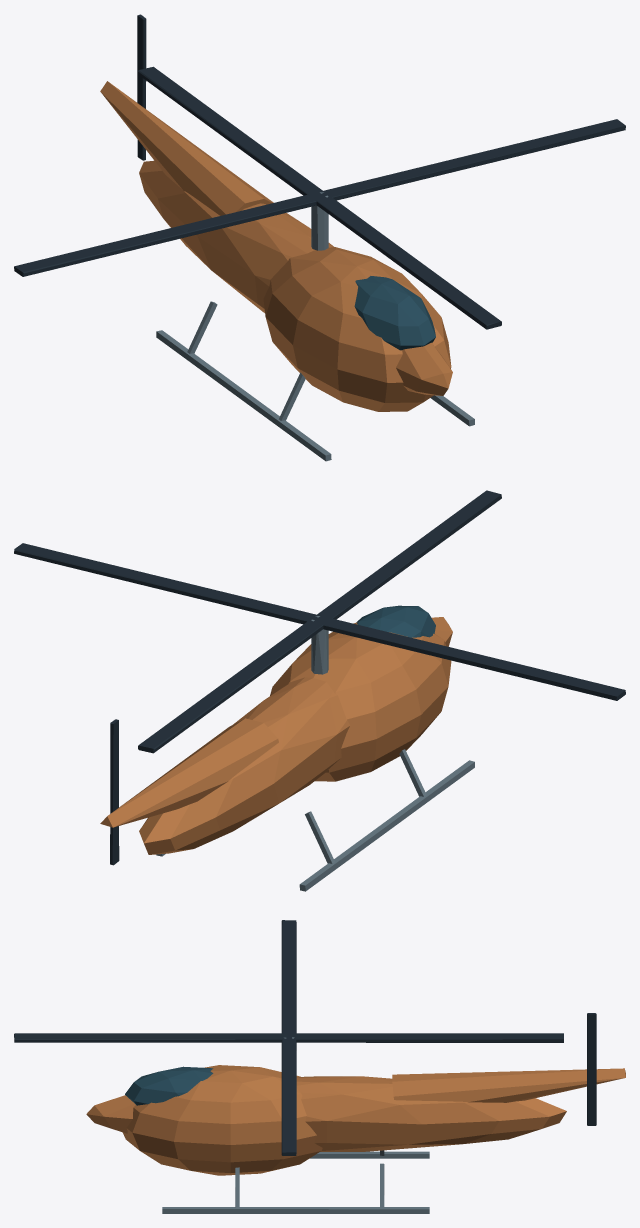
The model's file is aircraft-helicopter.lod1.glb.
The picture shows the model from 3 angles, top to bottom: view 1: azimuth 30°, elevation 25°; view 2: azimuth 150°, elevation 25°; view 3: azimuth 270°, elevation 25°; orthographic projection. The views are drawn at different scales.
Parts seen in each view (by area): view 1: aircraft-helicopter__body, aircraft-helicopter__main_rotor, aircraft-helicopter__tail_rotor; view 2: aircraft-helicopter__body, aircraft-helicopter__main_rotor, aircraft-helicopter__tail_rotor; view 3: aircraft-helicopter__body, aircraft-helicopter__main_rotor, aircraft-helicopter__tail_rotor.
Boxes of the visible parts, x1,y1,x2,y2 form: aircraft-helicopter__body: (100, 81, 474, 461); aircraft-helicopter__main_rotor: (14, 66, 625, 329); aircraft-helicopter__tail_rotor: (137, 14, 146, 160); aircraft-helicopter__body: (100, 605, 474, 891); aircraft-helicopter__main_rotor: (14, 490, 625, 753); aircraft-helicopter__tail_rotor: (110, 719, 119, 865); aircraft-helicopter__body: (86, 1065, 625, 1213); aircraft-helicopter__main_rotor: (14, 920, 563, 1155); aircraft-helicopter__tail_rotor: (587, 1013, 596, 1125).
Bounding box in the file's own units: 7.99 × 2.84 × 8.9.
